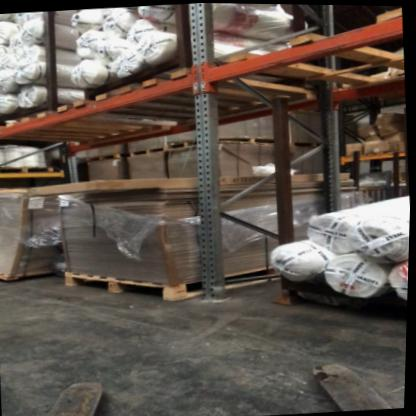vertical_damage: (193, 261, 236, 306)
